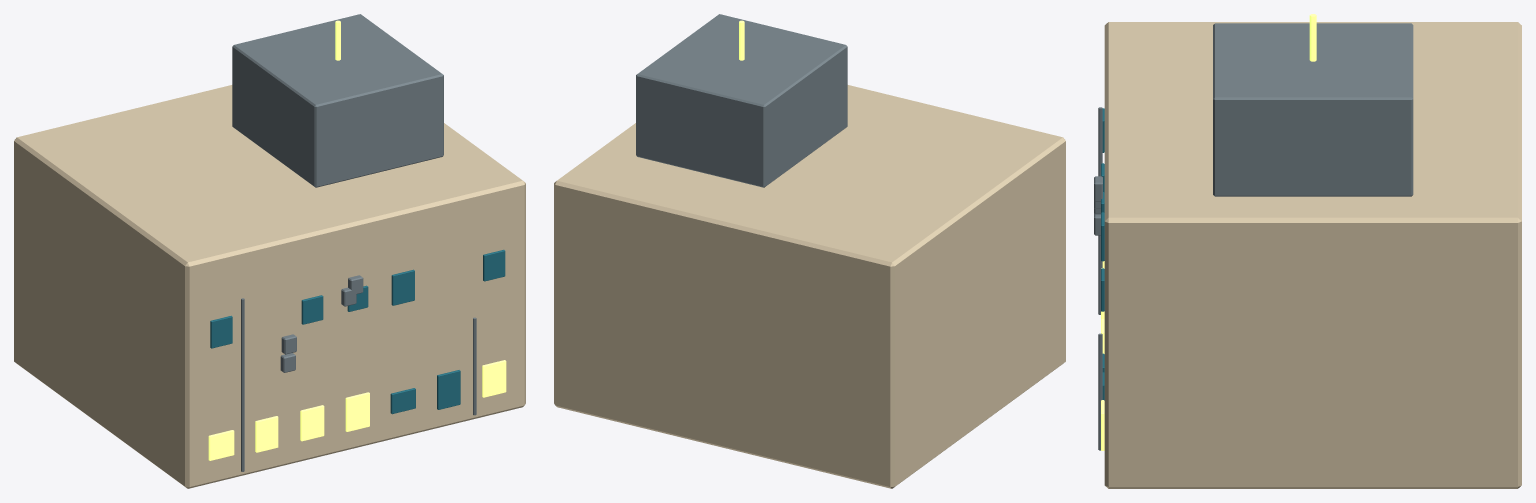
The model's file is building_006_seed100.glb.
3 renders of one model, left to right at view 1: azimuth 30°, elevation 25°; view 2: azimuth 150°, elevation 25°; view 3: azimuth 270°, elevation 25°, orthographic. The views are drawn at different scales.
Parts seen in each view (by area): view 1: building_006_seed100; view 2: building_006_seed100; view 3: building_006_seed100.
Part boxes in pixels (x1,y1,x2,y2): building_006_seed100: [14, 14, 525, 488]; building_006_seed100: [554, 14, 1065, 488]; building_006_seed100: [1094, 14, 1521, 488].
Bounding box in the file's own units: 9.47 × 9.21 × 8.59.
